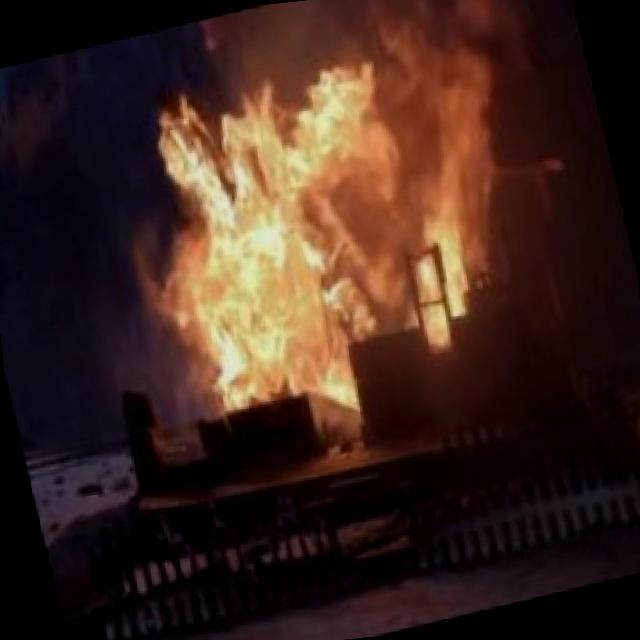fire: (57, 0, 564, 473)
